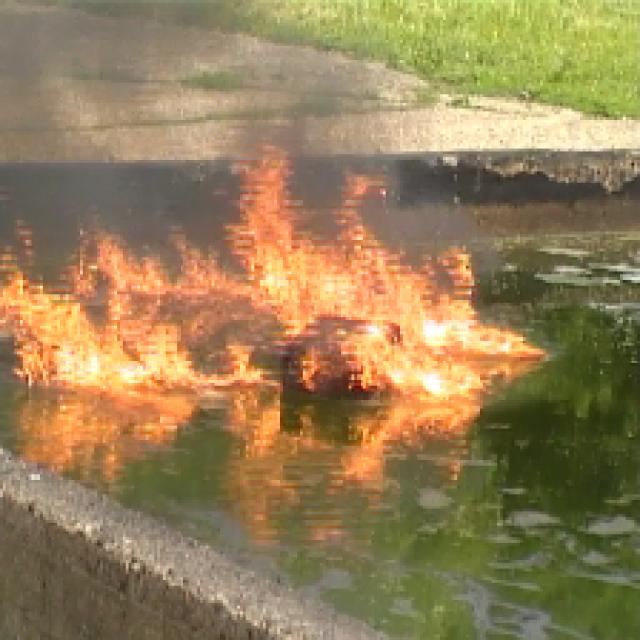fire: (19, 239, 483, 417)
